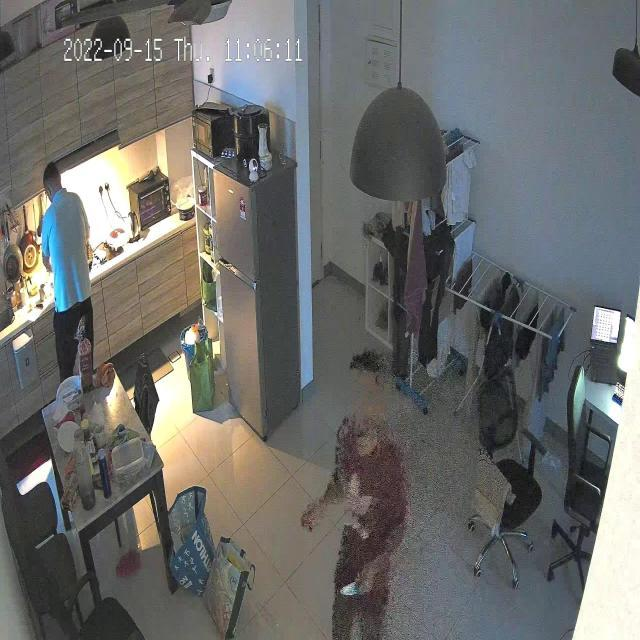Knife: (334, 568, 384, 612)
